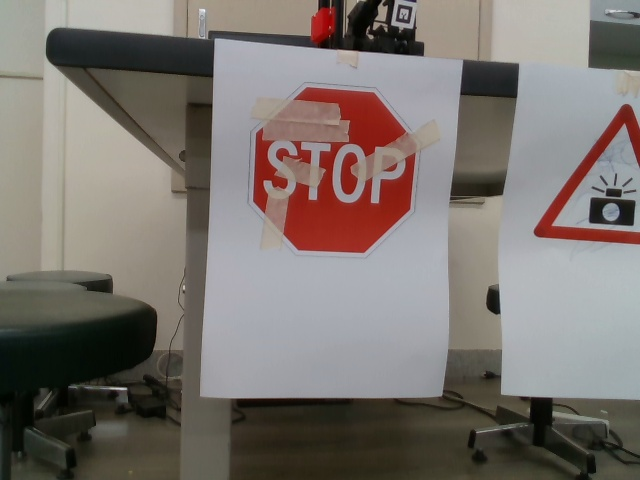stop: (245, 80, 424, 258)
